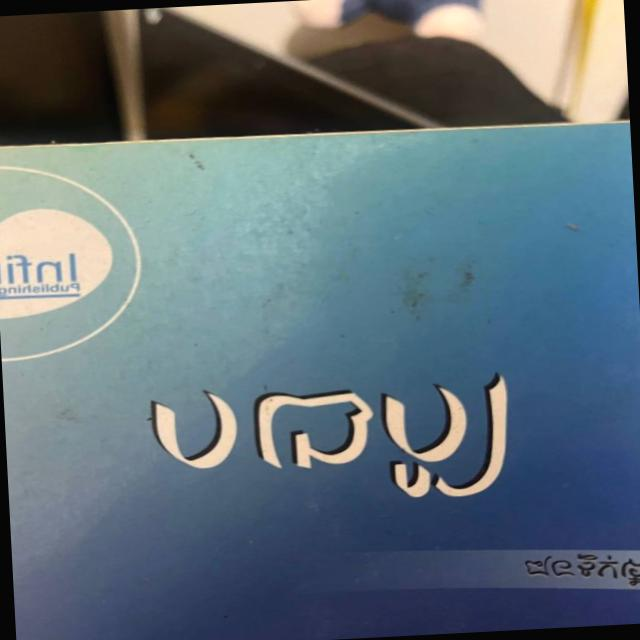Yolov11kh: (134, 356, 525, 503), (511, 548, 640, 588)
